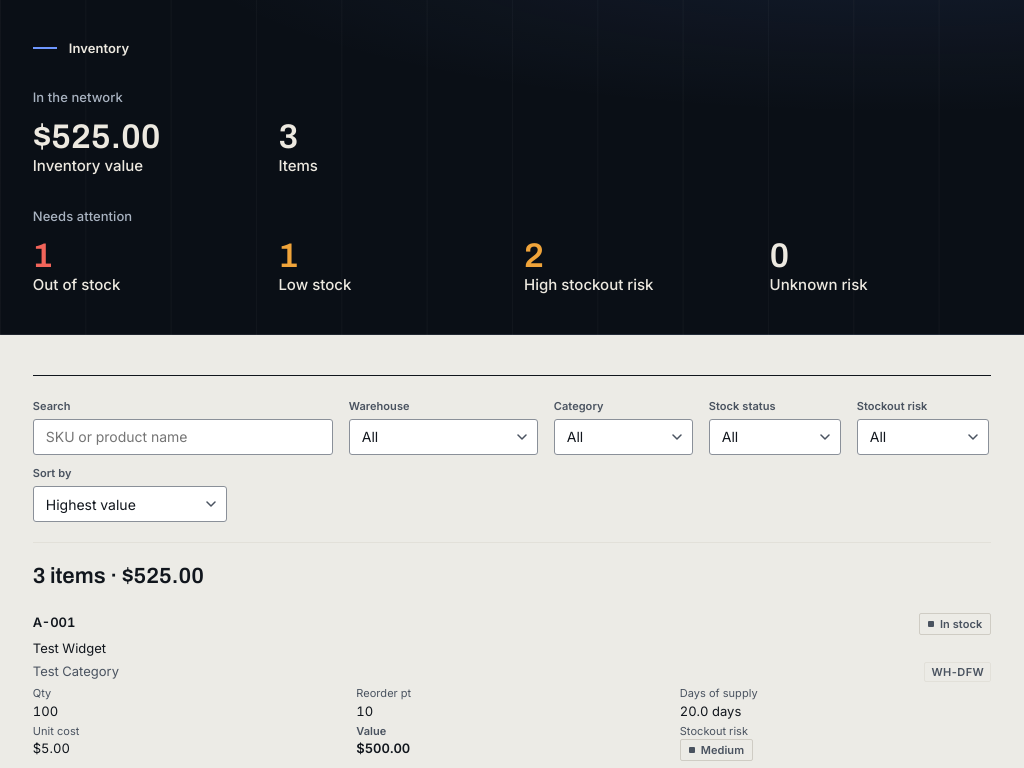
Scenario: InventoryPage › filters by stock status, including the combined "low or out" option
Select "Low or out" in the dropdown labelled "Stock status" at (775, 437), box [709,419,841,455]
(page scrolled)
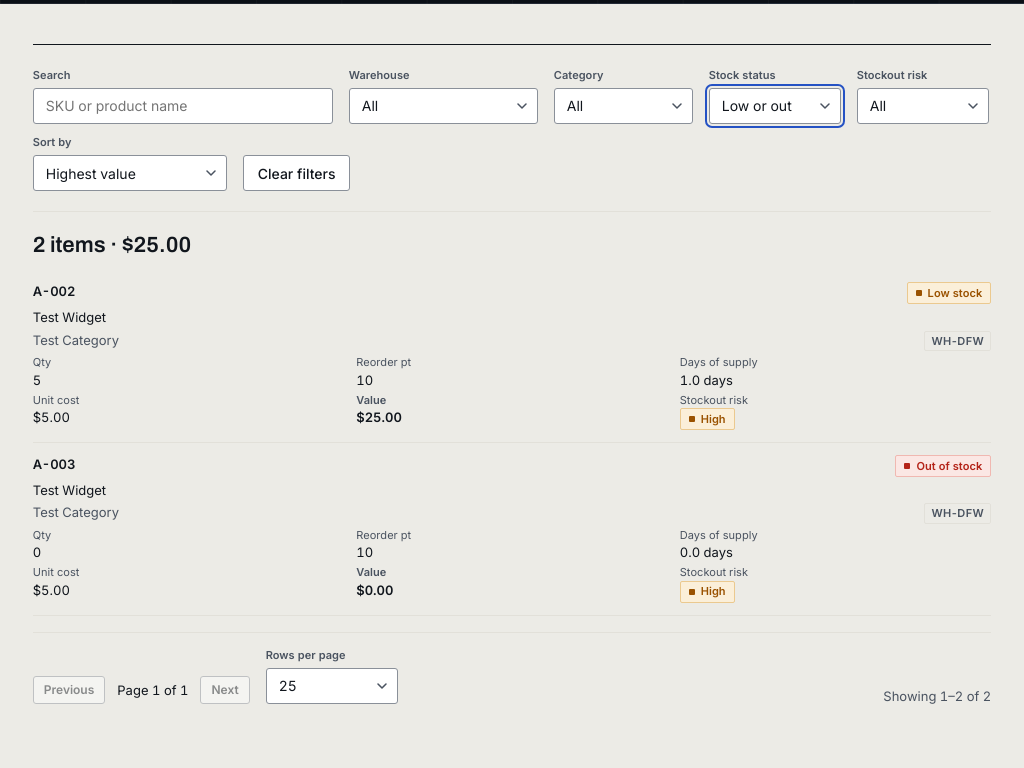
Expected: the text "A-002" is shown, [33,284,76,300]
Expected: the text "A-001" is gone
